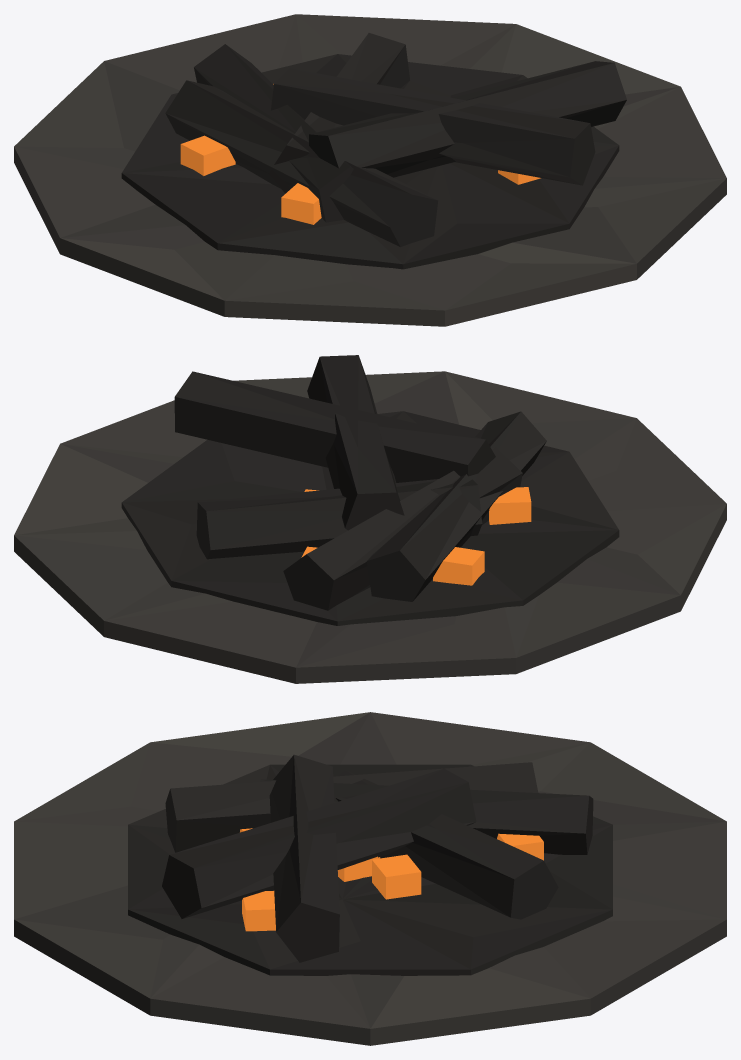
The model's file is campfire_dogorayuschiy_idle.glb.
3 views of the same model, one above another, from view 1: azimuth 30°, elevation 25°; view 2: azimuth 150°, elevation 25°; view 3: azimuth 270°, elevation 25° (orthographic). The views are drawn at different scales.
Visible parts, largest first — view 1: campfire_dogorayuschiy_idle; view 2: campfire_dogorayuschiy_idle; view 3: campfire_dogorayuschiy_idle.
Boxes of the visible parts, x1,y1,x2,y2 form: campfire_dogorayuschiy_idle: (14,14,726,326); campfire_dogorayuschiy_idle: (14,355,726,683); campfire_dogorayuschiy_idle: (14,712,726,1045).
Size of the model in its own units: 0.6 by 0.0818 by 0.5706.
2 materials, 2 textured.
